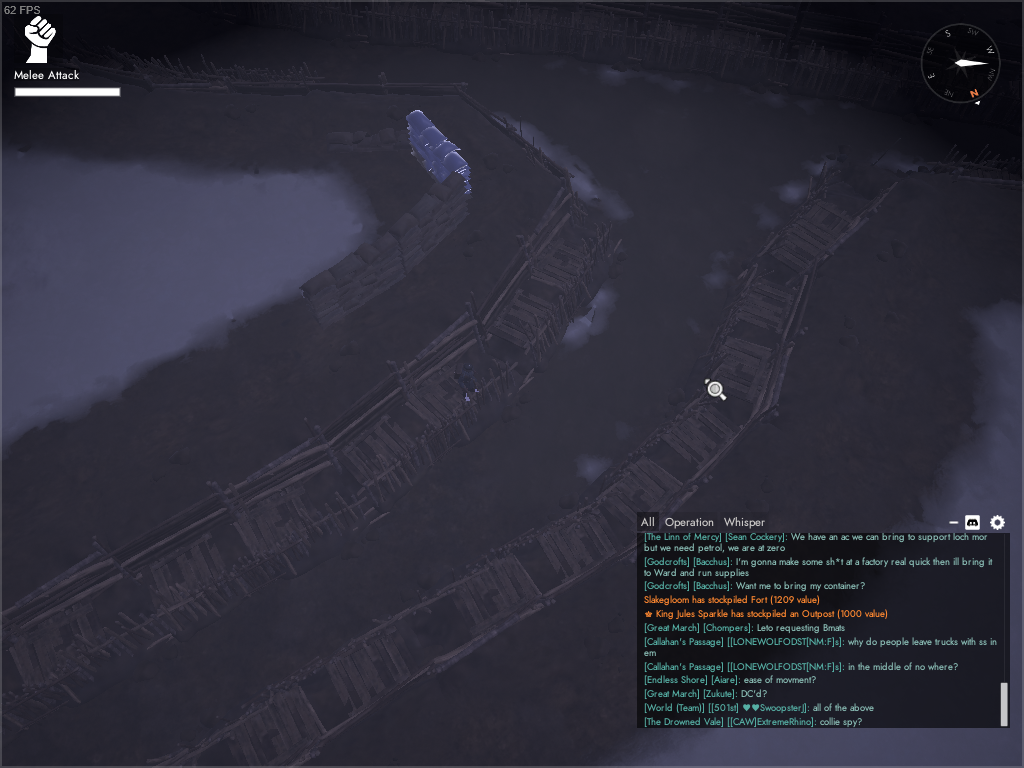player: (454, 362, 480, 402)
sandbag: (300, 230, 408, 329), (388, 171, 472, 278), (405, 108, 473, 195), (326, 129, 412, 155)
